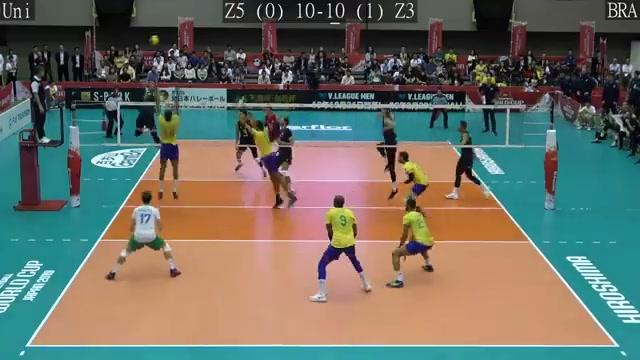ball: (148, 32, 161, 47)
